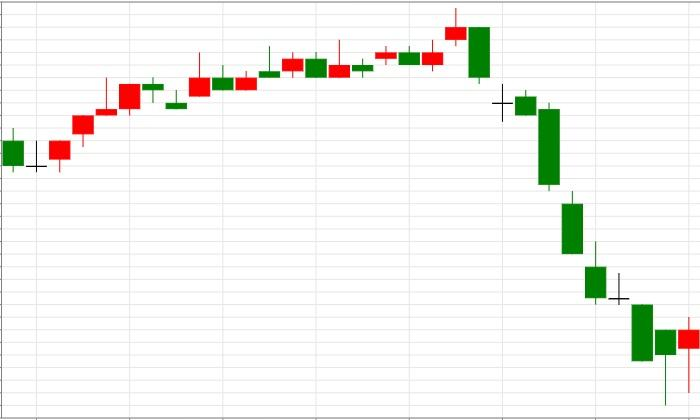hammer_rise: (469, 27, 676, 405)
